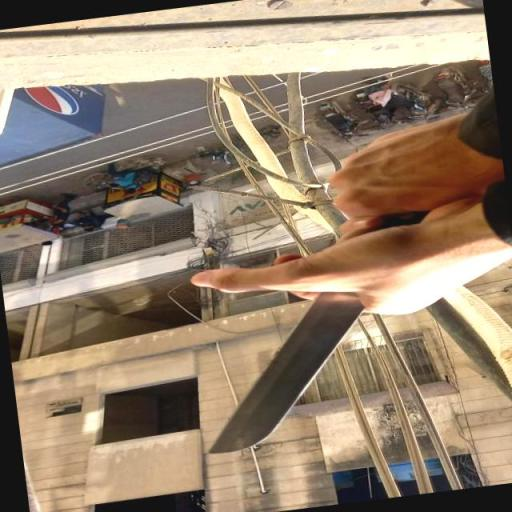knife: (178, 205, 459, 456)
